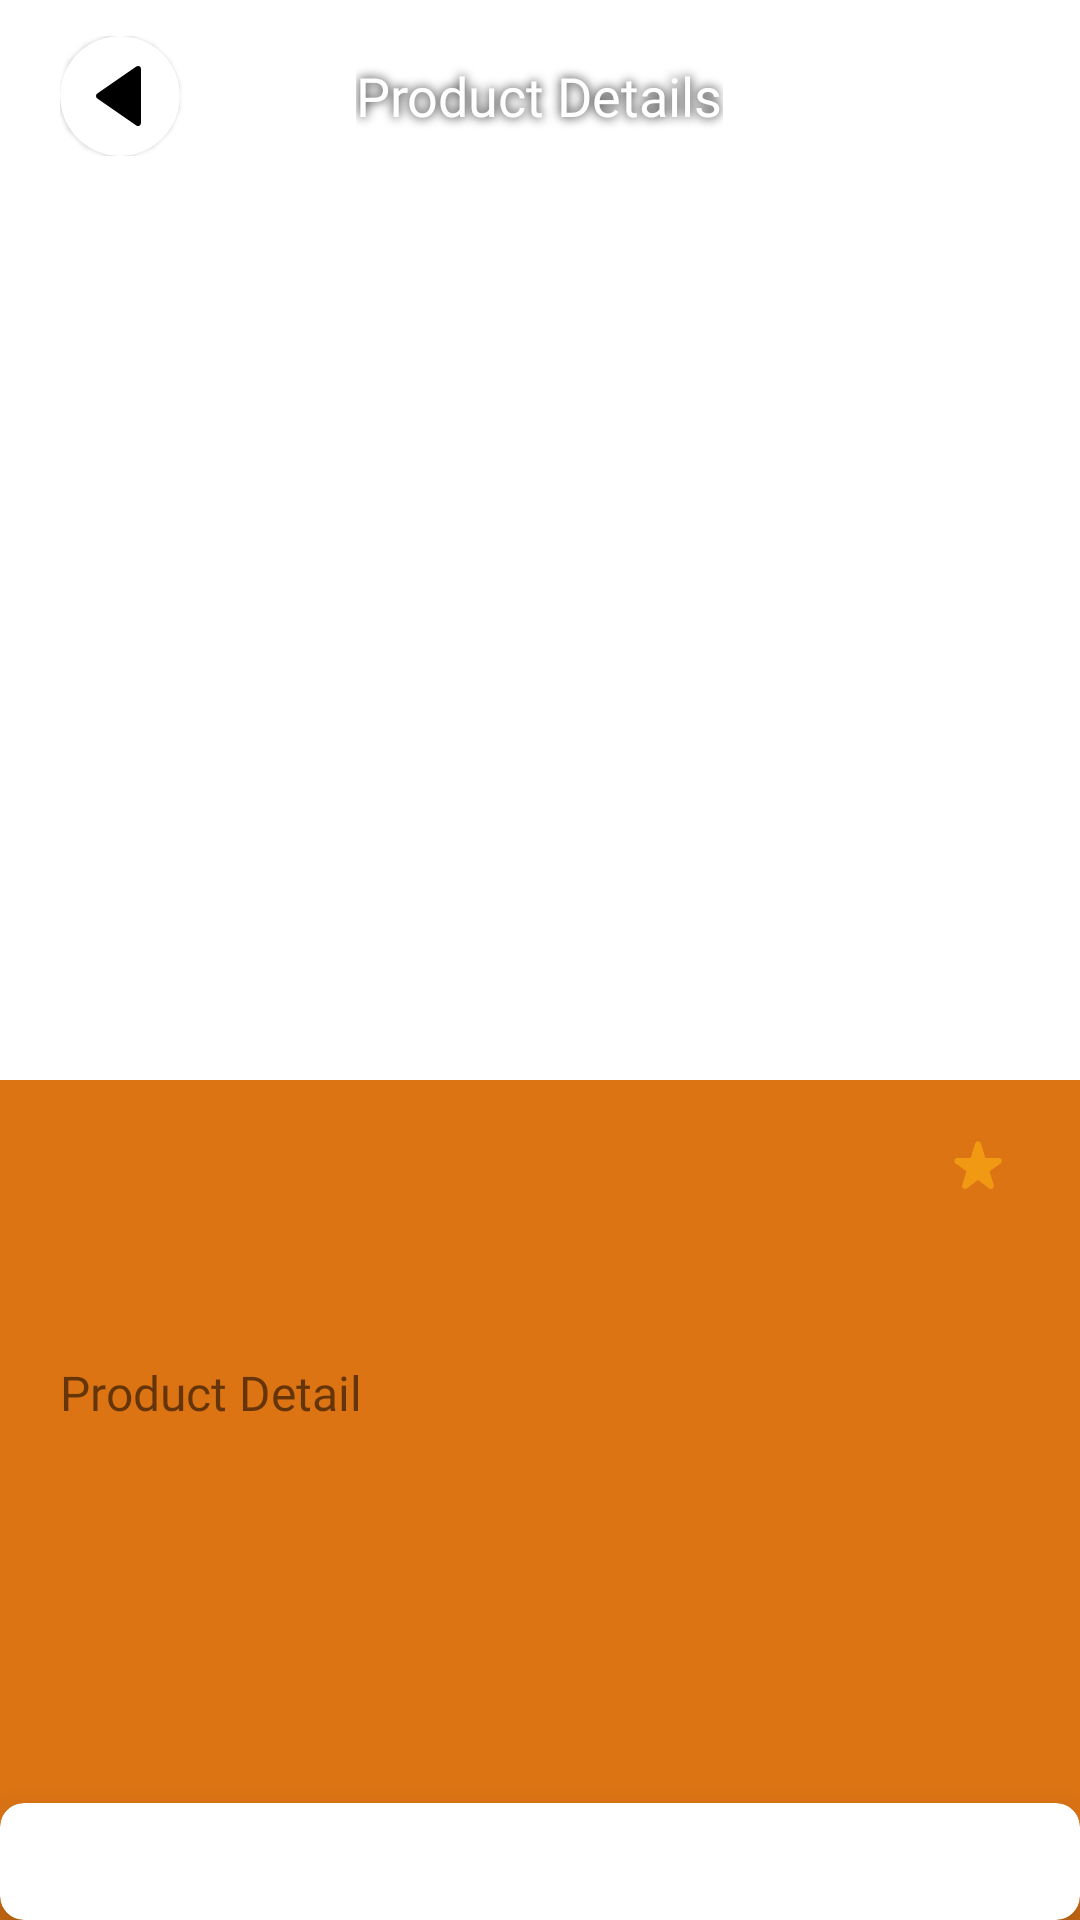

Icon bounding boxes for this 1080w x 1920h phone screenshot, format (x1, y1, x2, y2):
arrow back: (96, 66, 141, 126)
